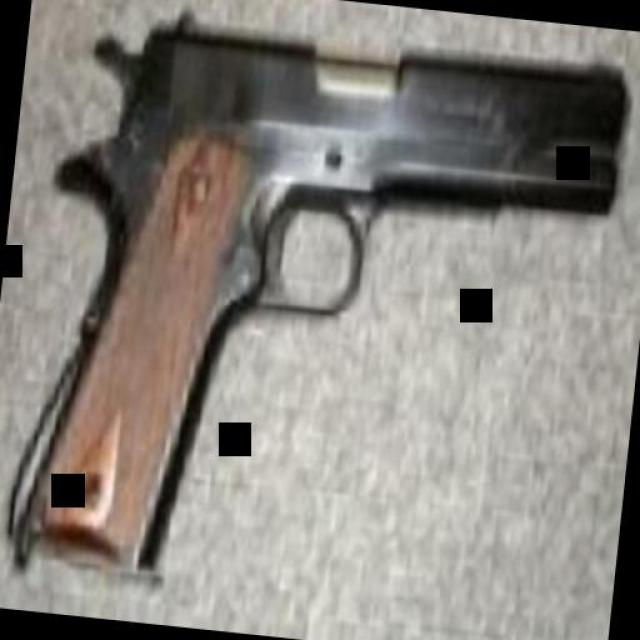gun: (0, 0, 632, 617)
